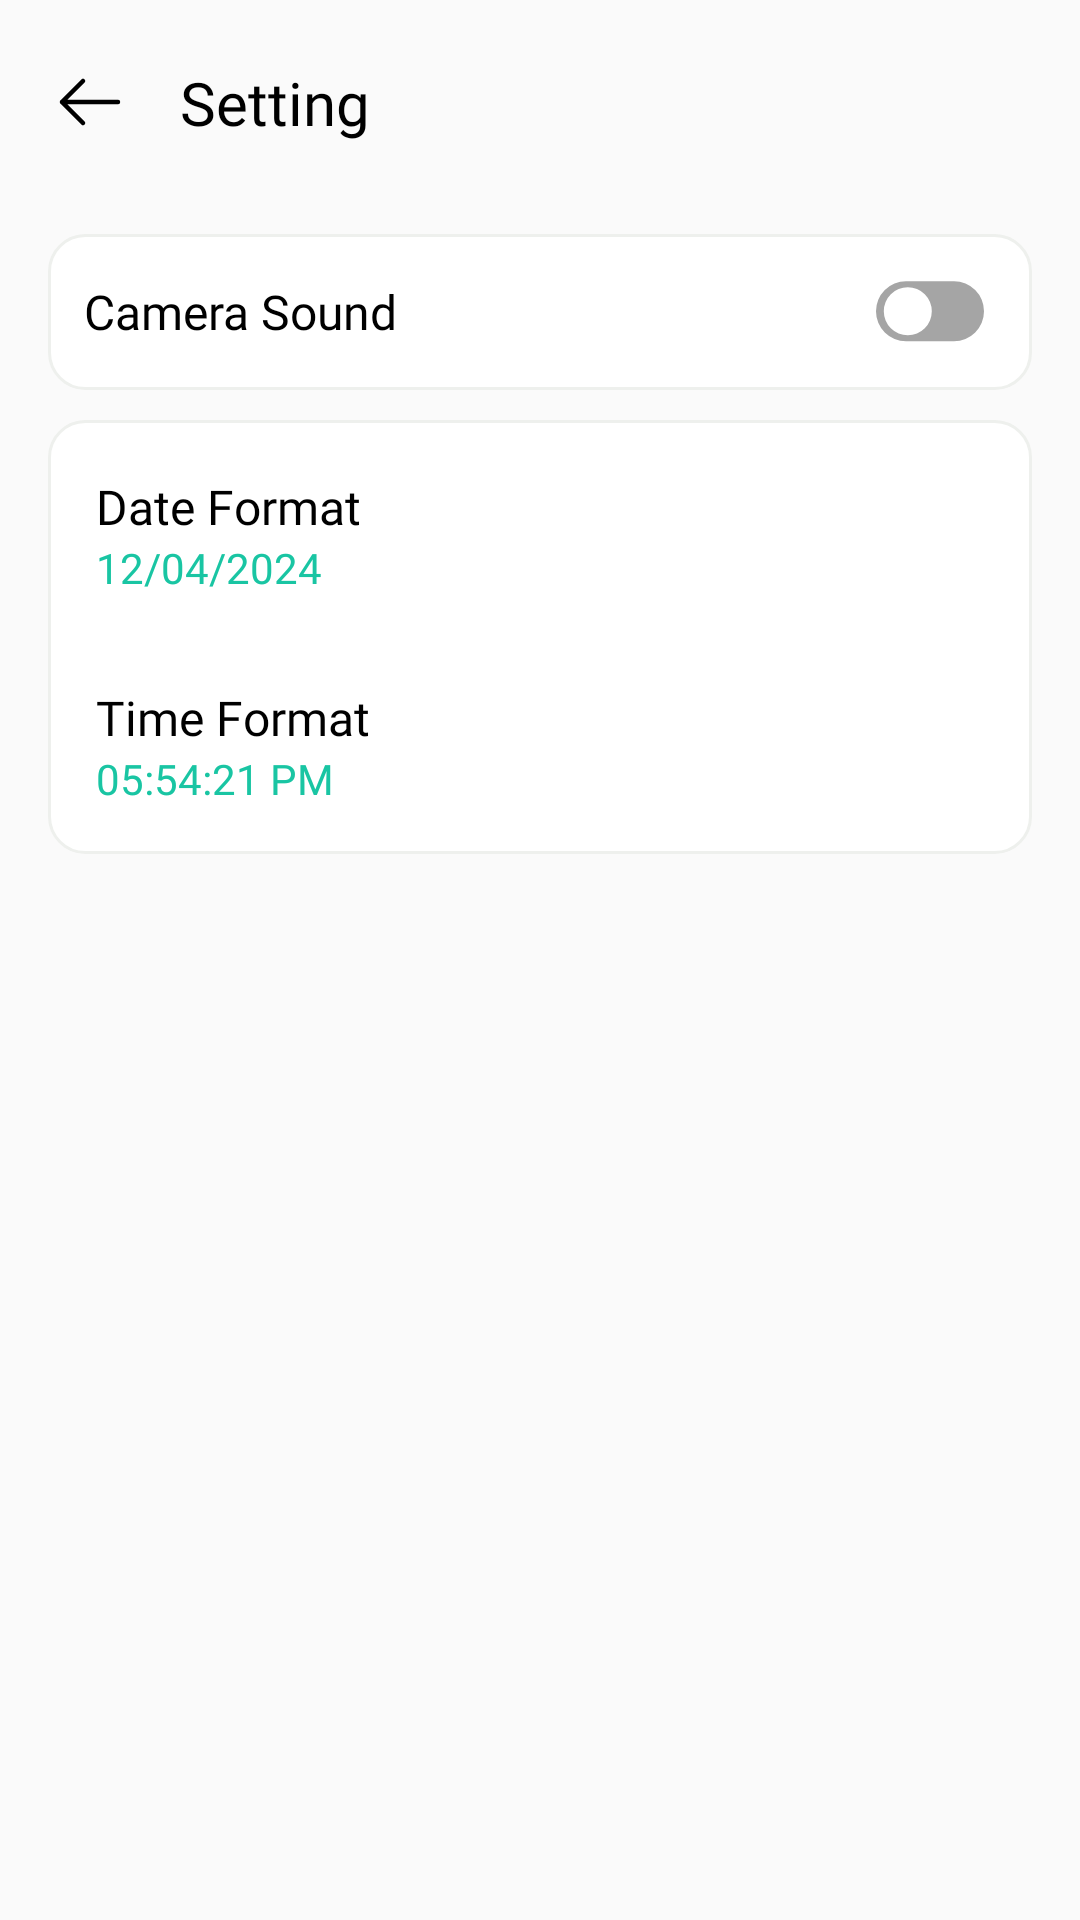

Screen size 1080w x 1920h. Icon name, then its box in pixels as [x1,y1,x2,y2]:
arrow left: [59,78,120,126]
switch off: [876,281,984,341]
